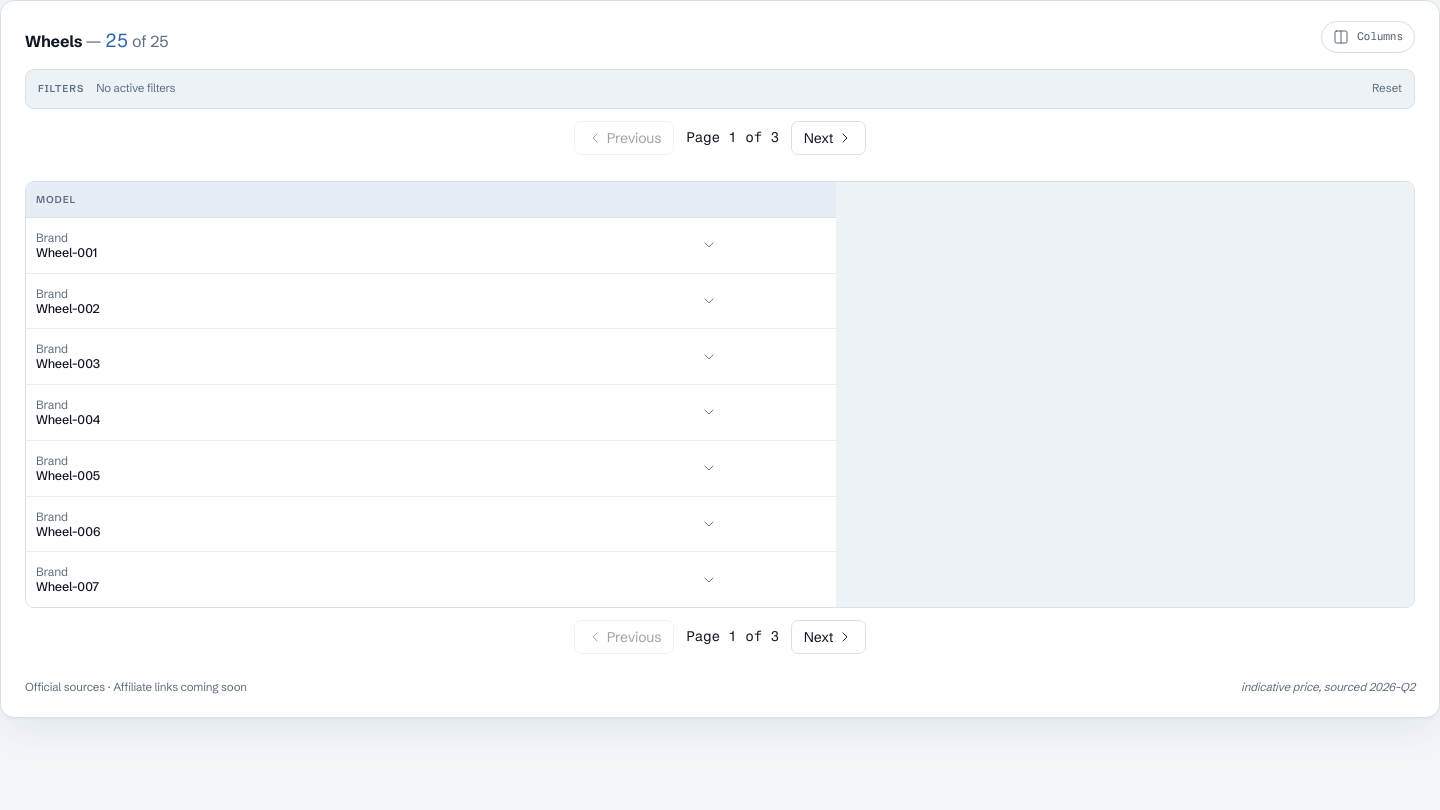
ComparisonTable pagination (EVO-061) › interactive navigation › navigates to previous page when Previous is clicked
Click the 1st button "Next" at (829, 138), box top-left (791, 121), bottom-right (866, 155)
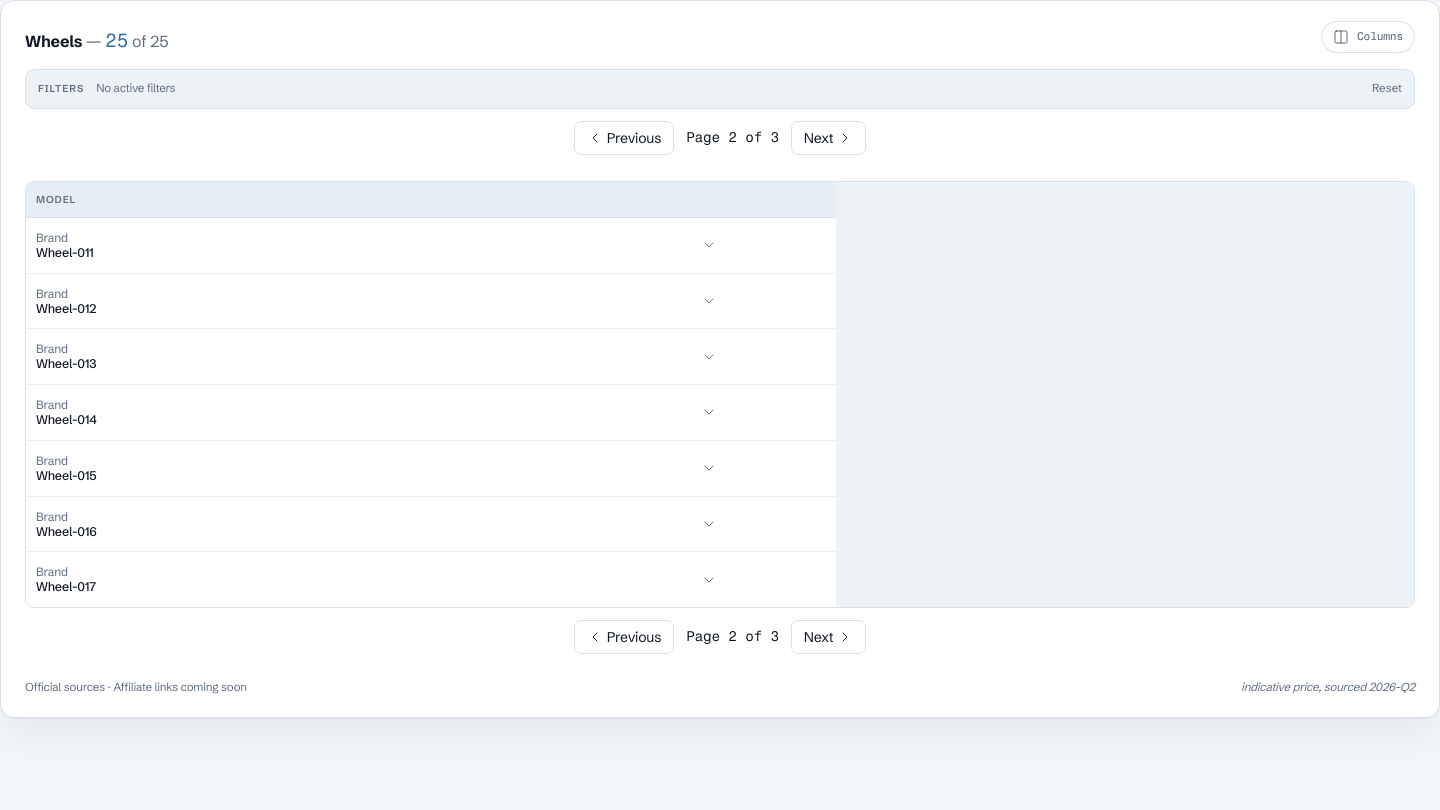
Result: the navigation bar named "Pagination" shows "Page 2 of 3" at top-left (686, 129), bottom-right (779, 146)
Result: the 1st button "Previous" is enabled
Click the 1st button "Previous" at (624, 138), box top-left (574, 121), bottom-right (674, 155)
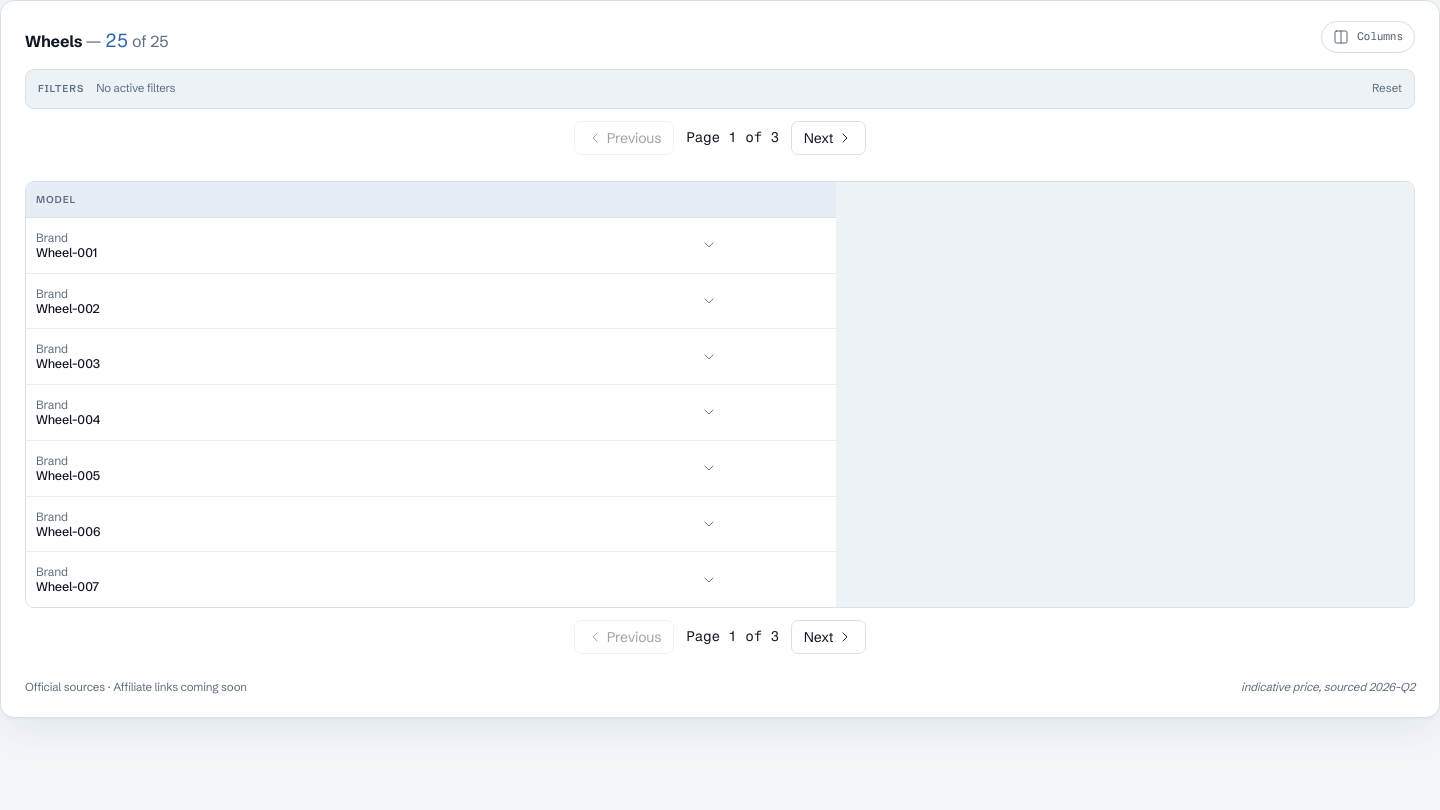
Result: the navigation bar named "Pagination" shows "Page 1 of 3" at top-left (686, 129), bottom-right (779, 146)
